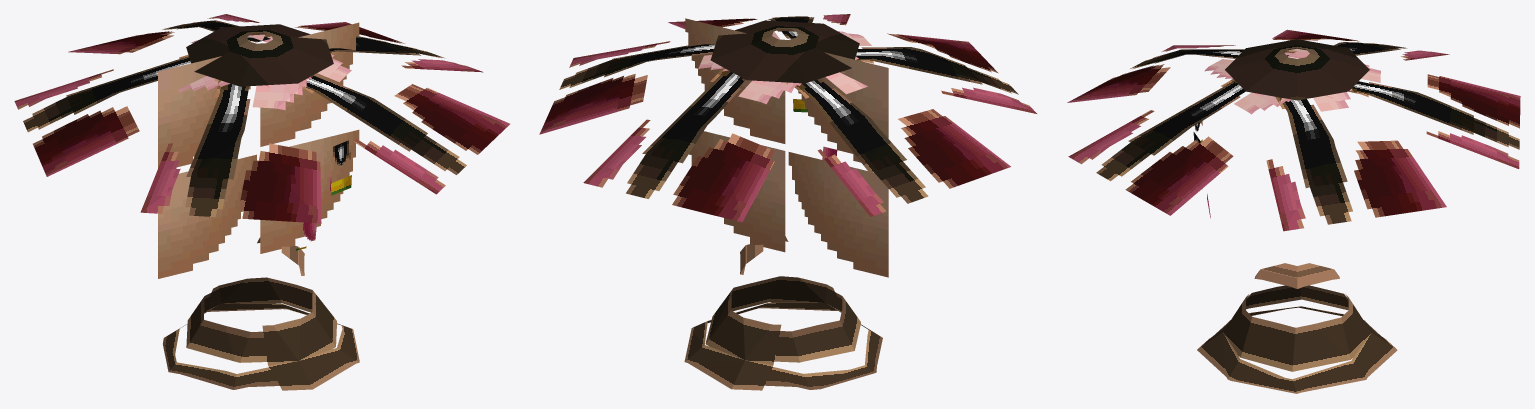
Rendered from huwahuwa_model.obj.
3 views of the same model, side by side, from view 1: azimuth 30°, elevation 25°; view 2: azimuth 150°, elevation 25°; view 3: azimuth 270°, elevation 25° (orthographic). The views are drawn at different scales.
Parts seen in each view (by area): view 1: skl_root, flower_01, waist, head_bill; view 2: skl_root, flower_01, waist, head_bill; view 3: skl_root, flower_01, waist.
Part boxes in pixels (<box>): skl_root: <box>15,14,483,390</box>; flower_01: <box>14,14,509,223</box>; waist: <box>163,237,359,389</box>; head_bill: <box>158,22,359,210</box>; skl_root: <box>575,14,1036,389</box>; flower_01: <box>539,14,1036,222</box>; waist: <box>684,236,882,390</box>; head_bill: <box>685,18,888,165</box>; skl_root: <box>1067,30,1519,393</box>; flower_01: <box>1068,30,1520,231</box>; waist: <box>1197,269,1395,393</box>.
Size of the model in its own units: 25.55 by 17.82 by 24.32.
2 materials, 2 textured.
